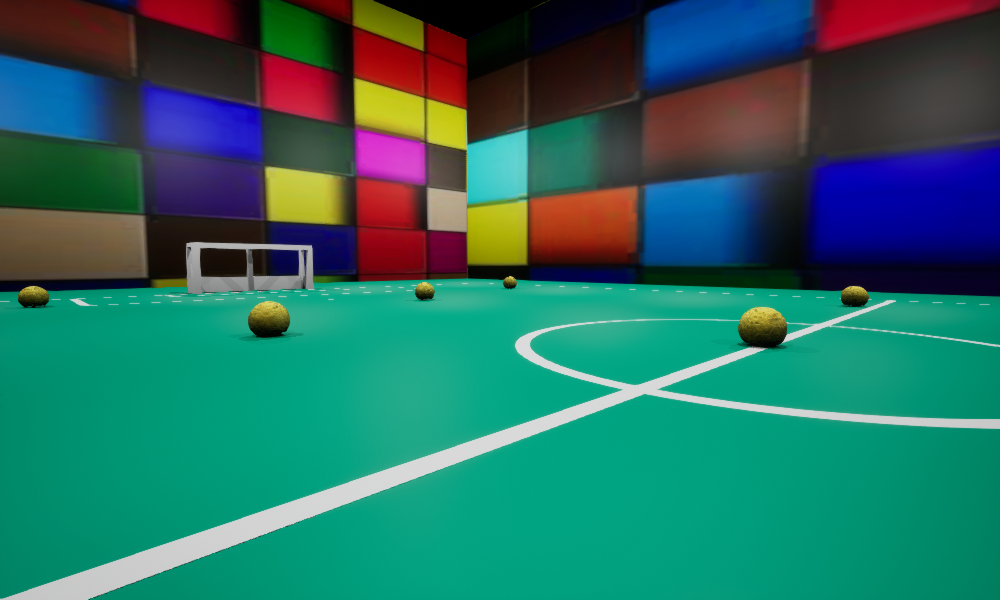b: (738, 307, 786, 346), (248, 301, 289, 336), (18, 286, 48, 307), (841, 286, 868, 306), (415, 282, 434, 299), (503, 276, 516, 288)
g: (186, 242, 313, 293)
